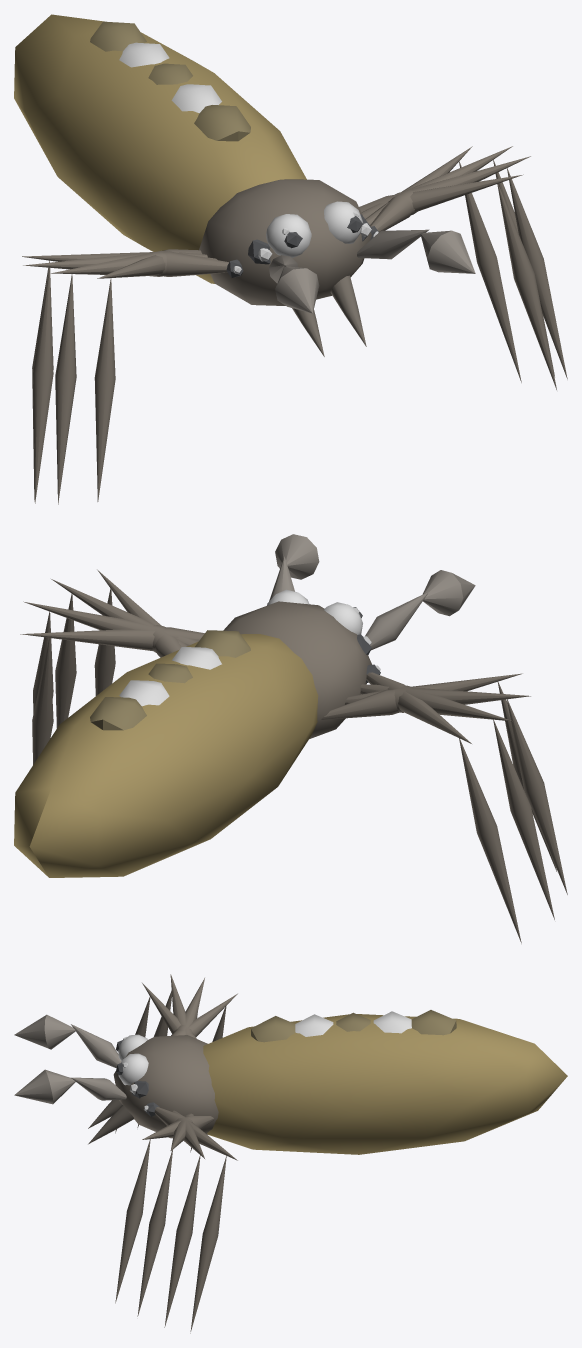
The model's file is trichonephila-antipodiana.glb.
3 views of the same model, one above another, from view 1: azimuth 30°, elevation 25°; view 2: azimuth 150°, elevation 25°; view 3: azimuth 270°, elevation 25° (orthographic). The views are drawn at different scales.
Visible parts, largest first — view 1: abdomen, cephalothorax, leg3-l0, leg0-l0, leg2-r0, leg3-r0, leg1-r0, leg2-l0, leg0-r0, palp-l1, palp-r1, eye0-r (+4 smaller); view 2: abdomen, cephalothorax, leg0-r0, leg1-r0, leg2-r0, leg0-l0, leg3-r0, leg2-l0, leg3-l0, leg1-l0, palp-r1, palp-l1 (+2 smaller); view 3: abdomen, cephalothorax, leg0-l0, leg3-l0, leg1-l0, leg2-l0, palp-l1, palp-r1, palp-r0, palp-l0, leg0-r0, eye0-l (+3 smaller).
Boxes of the visible parts, x1,y1,x2,y2 form: abdomen: (14, 14, 306, 283); cephalothorax: (199, 179, 371, 305); leg3-l0: (359, 174, 556, 389); leg0-l0: (370, 146, 521, 382); leg2-r0: (51, 250, 207, 504); leg3-r0: (94, 249, 201, 501); leg1-r0: (23, 251, 217, 503); leg2-l0: (362, 156, 567, 379); leg0-r0: (22, 251, 228, 501); palp-l1: (421, 230, 475, 273); palp-r1: (275, 266, 319, 313); eye0-r: (266, 214, 311, 257); abdomen: (14, 630, 318, 877); cephalothorax: (223, 601, 371, 738); leg0-r0: (366, 672, 521, 943); leg1-r0: (360, 684, 554, 919); leg2-r0: (345, 688, 567, 894); leg0-l0: (20, 627, 204, 764); leg3-r0: (321, 673, 556, 871); leg2-l0: (51, 579, 187, 727); leg3-l0: (94, 569, 181, 695); leg1-l0: (23, 601, 198, 713); palp-r1: (422, 570, 475, 616); palp-l1: (275, 534, 319, 579); abdomen: (203, 1010, 567, 1154); cephalothorax: (113, 1035, 218, 1138); leg0-l0: (154, 1107, 237, 1333); leg3-l0: (115, 1116, 214, 1303); leg1-l0: (164, 1110, 204, 1327); leg2-l0: (137, 1113, 193, 1316); palp-l1: (14, 1069, 75, 1104); palp-r1: (14, 1014, 75, 1049); palp-r0: (71, 1024, 121, 1068); palp-l0: (71, 1077, 126, 1100); leg0-r0: (171, 993, 237, 1152); eye0-l: (116, 1053, 148, 1085).
Bounding box in the file's own units: 0.5356 × 0.2959 × 0.6503.
